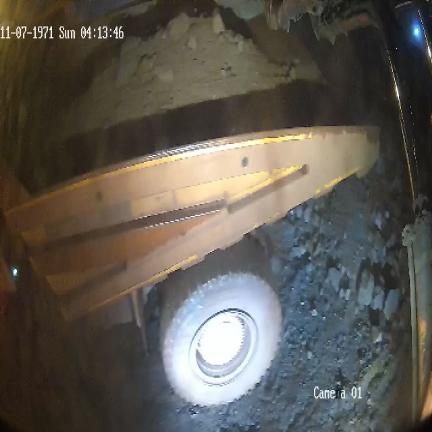pile: (257, 153, 411, 379), (56, 12, 303, 141)
